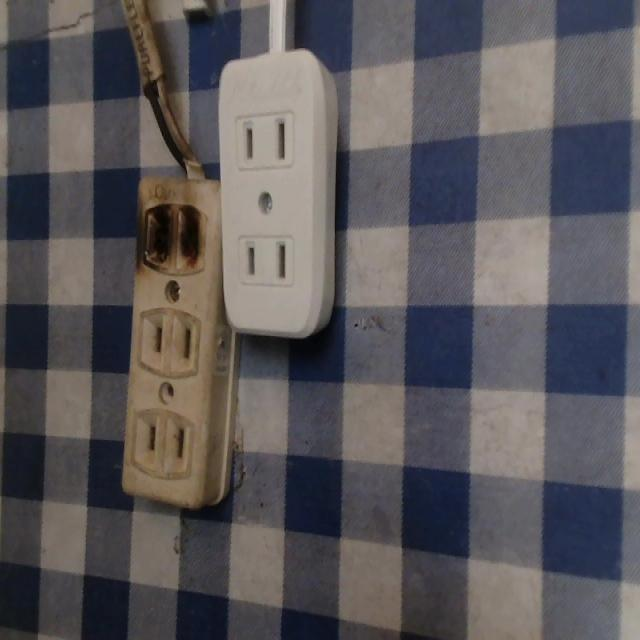-: (141, 189, 211, 267)
